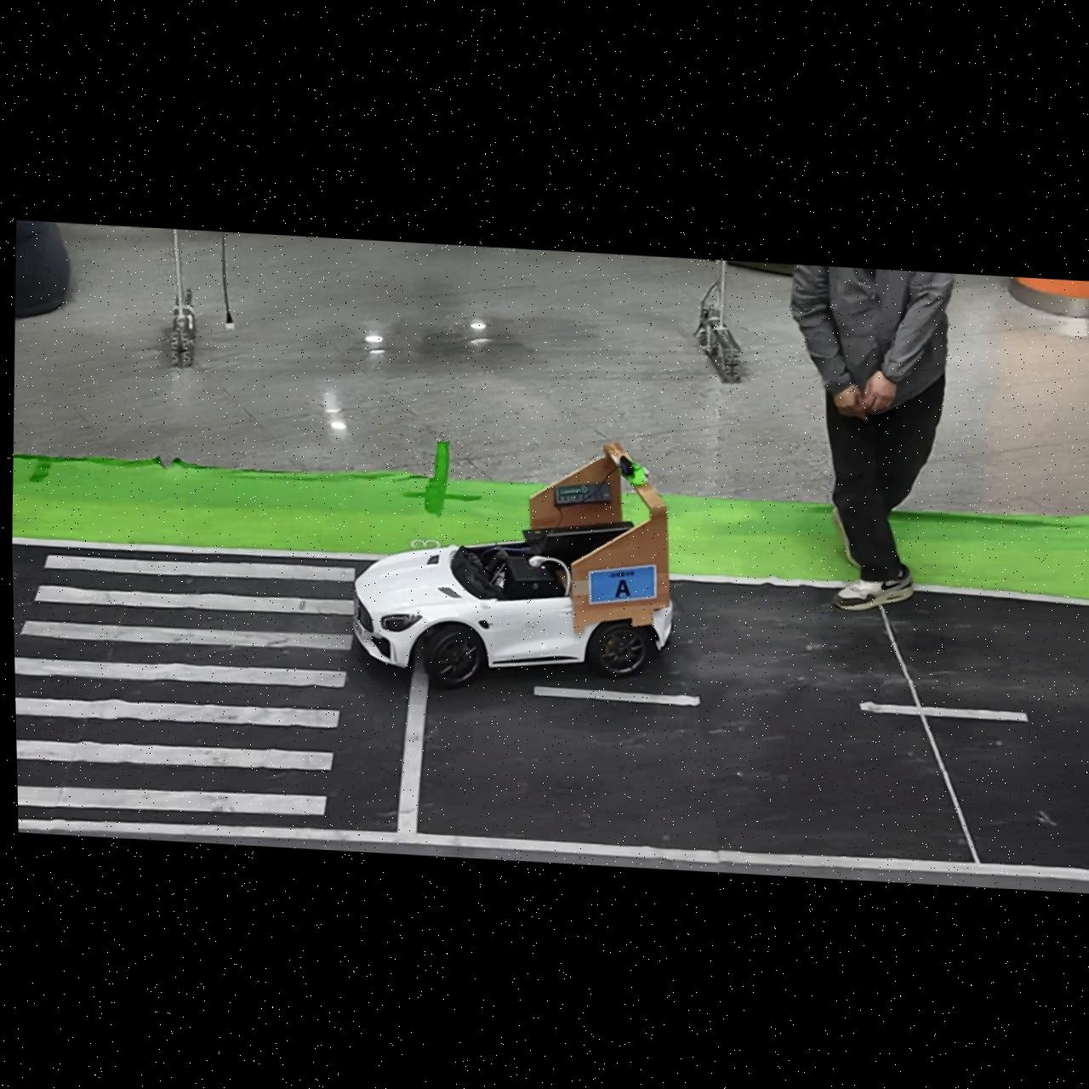broken_line: (859, 701, 1028, 722), (534, 687, 700, 706)
crosswalk: (14, 555, 355, 815)
